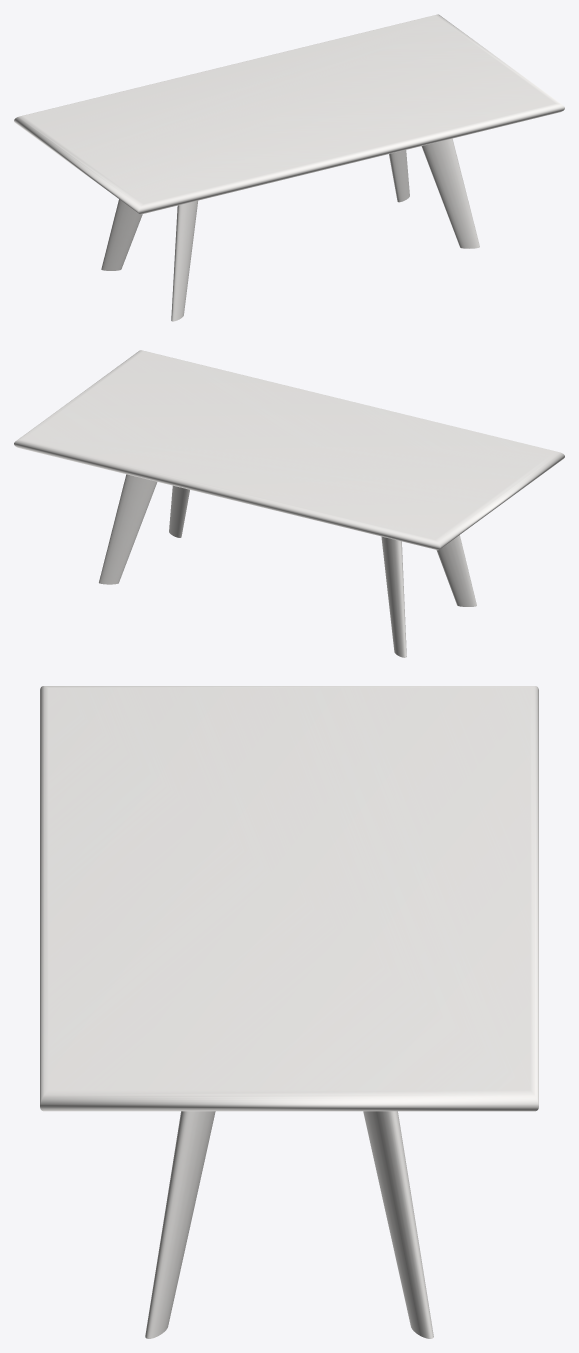
The model's file is purewhite_recta_round_ferdinantwalnut.glb.
3 views of the same model, one above another, from view 1: azimuth 30°, elevation 25°; view 2: azimuth 150°, elevation 25°; view 3: azimuth 270°, elevation 25° (orthographic). The views are drawn at different scales.
Visible parts, largest first — view 1: round_recta, ferdinandwalnut; view 2: round_recta, ferdinandwalnut; view 3: round_recta, ferdinandwalnut.
Part boxes in pixels (x1,y1,x2,y2): round_recta: (14,14,564,214); ferdinandwalnut: (101,138,479,321); round_recta: (14,350,564,550); ferdinandwalnut: (99,474,476,657); round_recta: (40,686,538,1111); ferdinandwalnut: (145,1111,433,1338).
Size of the model in its own units: 7.5 by 2.51 by 3.8.
Materials: 1 (1 with a texture image).
